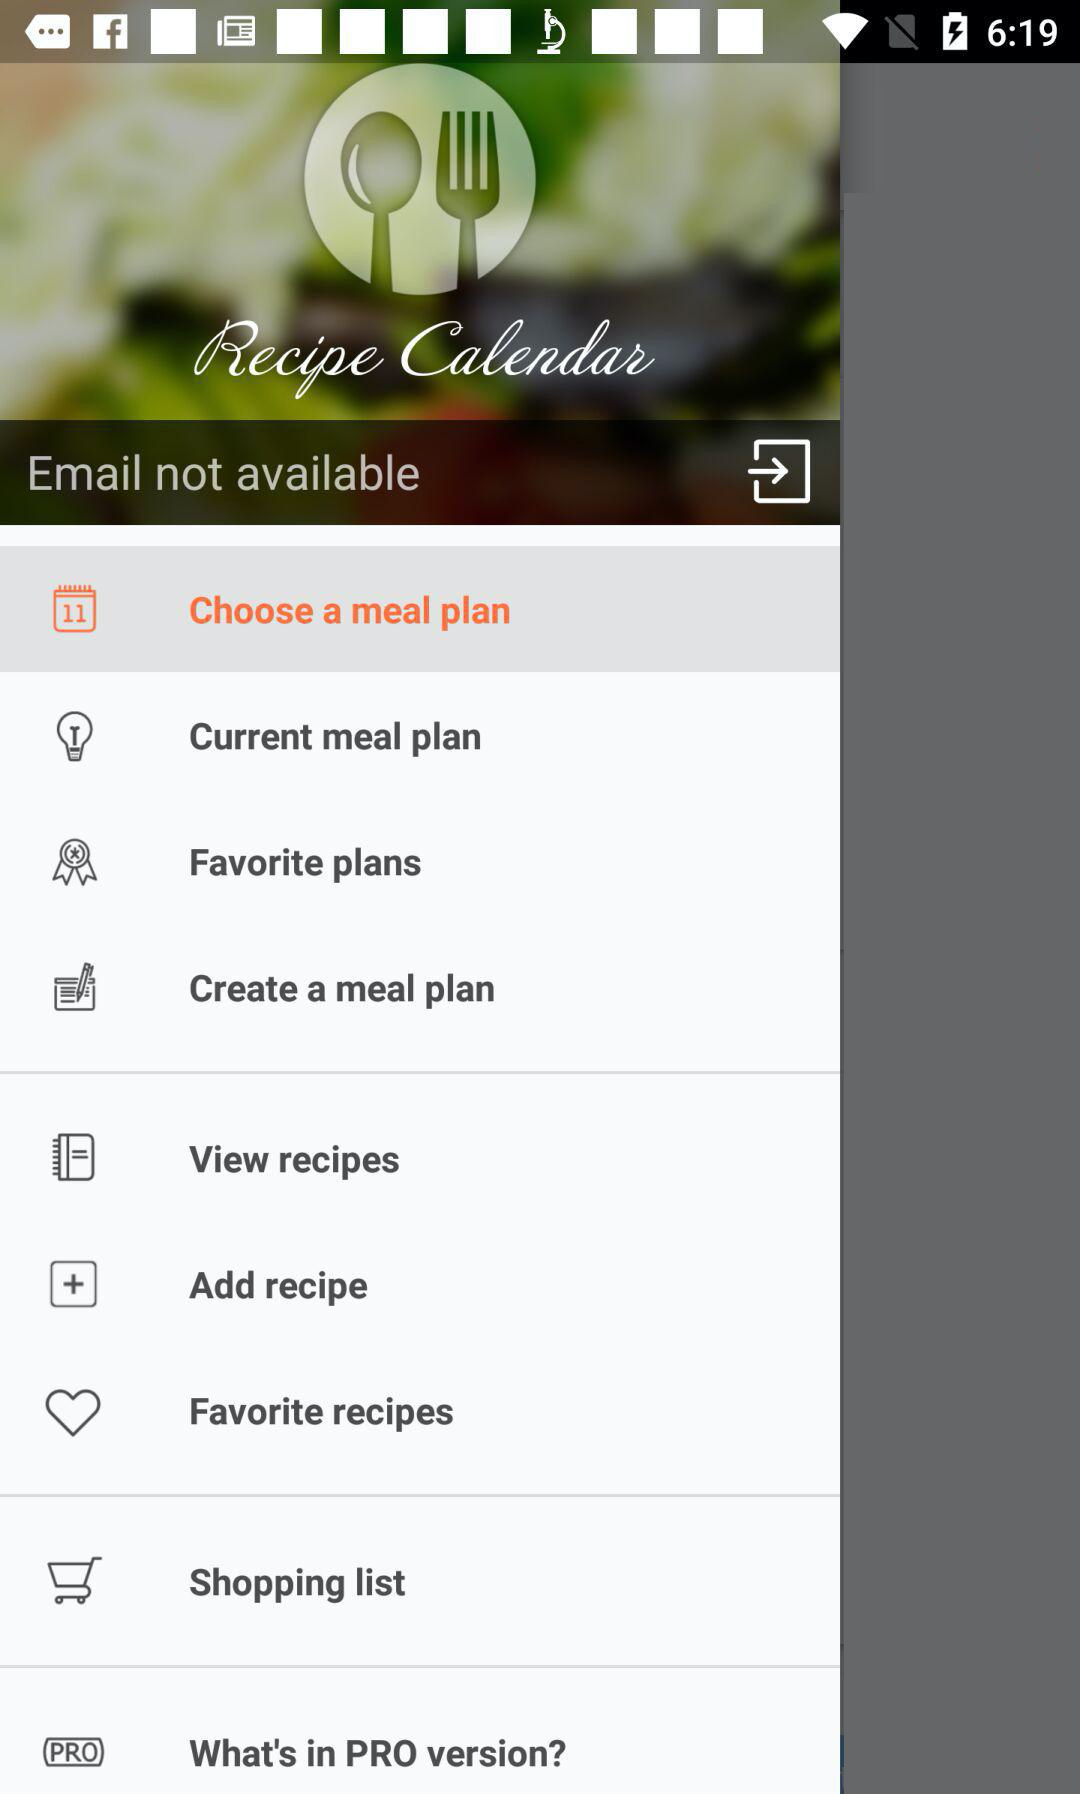Drawer: (1, 65, 839, 1794)
Icon: (747, 438, 812, 505), (45, 1388, 102, 1438), (47, 1556, 104, 1606), (50, 1260, 99, 1308), (53, 961, 97, 1014), (53, 584, 97, 634), (53, 1133, 97, 1183)
Image: (304, 65, 537, 295), (53, 838, 99, 888), (44, 1736, 106, 1768), (56, 711, 95, 762)
Text: (192, 317, 655, 401), (29, 452, 421, 495), (190, 595, 511, 633), (190, 973, 496, 1011), (190, 1738, 568, 1768), (190, 720, 482, 760), (190, 1395, 455, 1433), (190, 846, 423, 885), (190, 1566, 407, 1604), (188, 1144, 401, 1181), (190, 1269, 369, 1307)
UpperTaskBar: (1, 1, 1080, 64)
